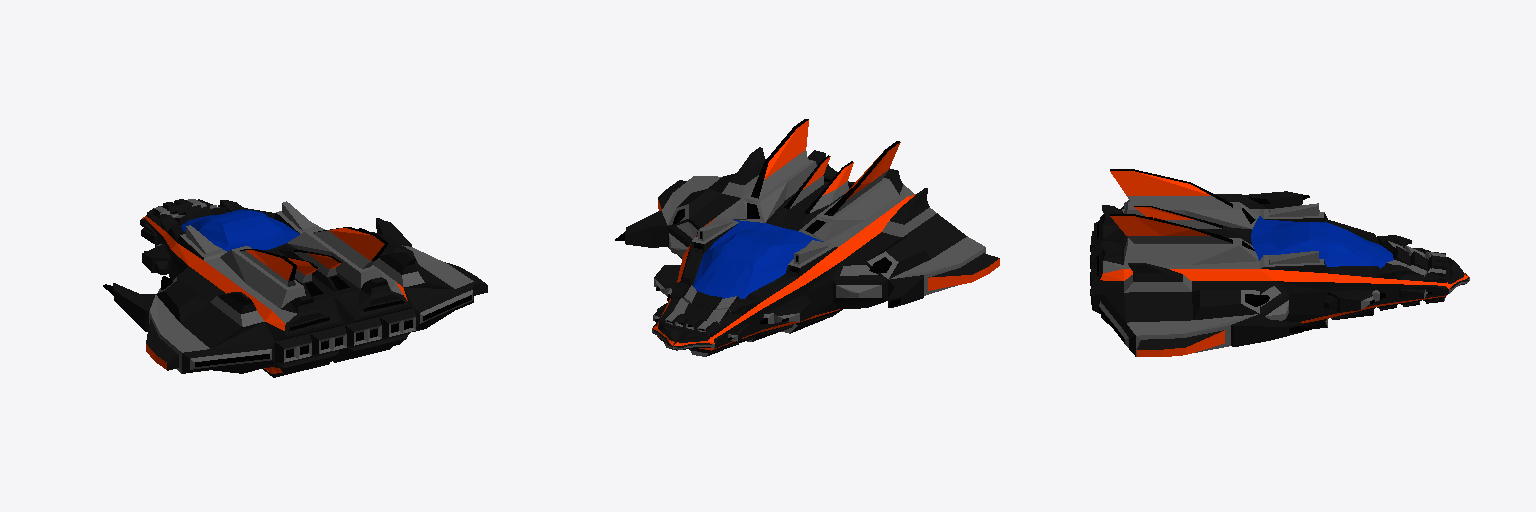
File: ship4.obj
3 renders of one model, left to right at view 1: azimuth 30°, elevation 25°; view 2: azimuth 150°, elevation 25°; view 3: azimuth 270°, elevation 25°, orthographic.
Parts seen in each view (by area): view 1: Cube_Cube.001; view 2: Cube_Cube.001; view 3: Cube_Cube.001.
Part boxes in pixels (x1,y1,x2,y2): Cube_Cube.001: (103,199,487,377); Cube_Cube.001: (615,119,999,356); Cube_Cube.001: (1090,169,1469,356).
Size of the model in its own units: 4.62 by 1.75 by 4.73.